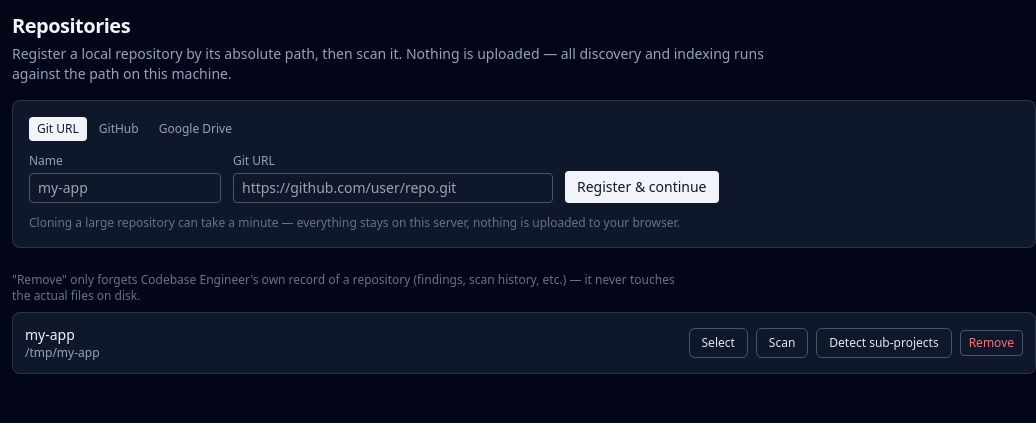
it: RepositoriesPage › scans a repository via discover + index + analysis, so findings are ready right away
The width and height of the screenshot is (1036, 423).
Click the button "Scan". click: {"x": 782, "y": 343}
box: [756, 328, 808, 358]
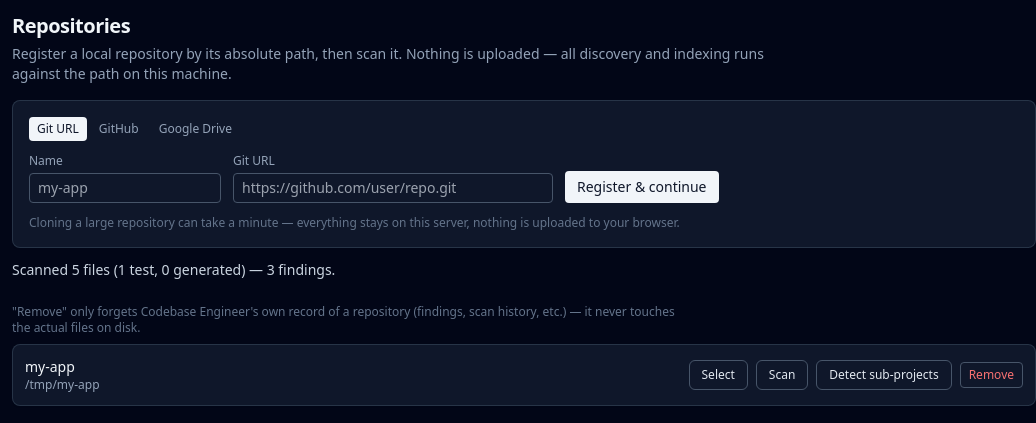
Check: the text "Scanned 5 files (1 test, 0 generated) — 3 findings." is shown, box [12, 260, 335, 279]
